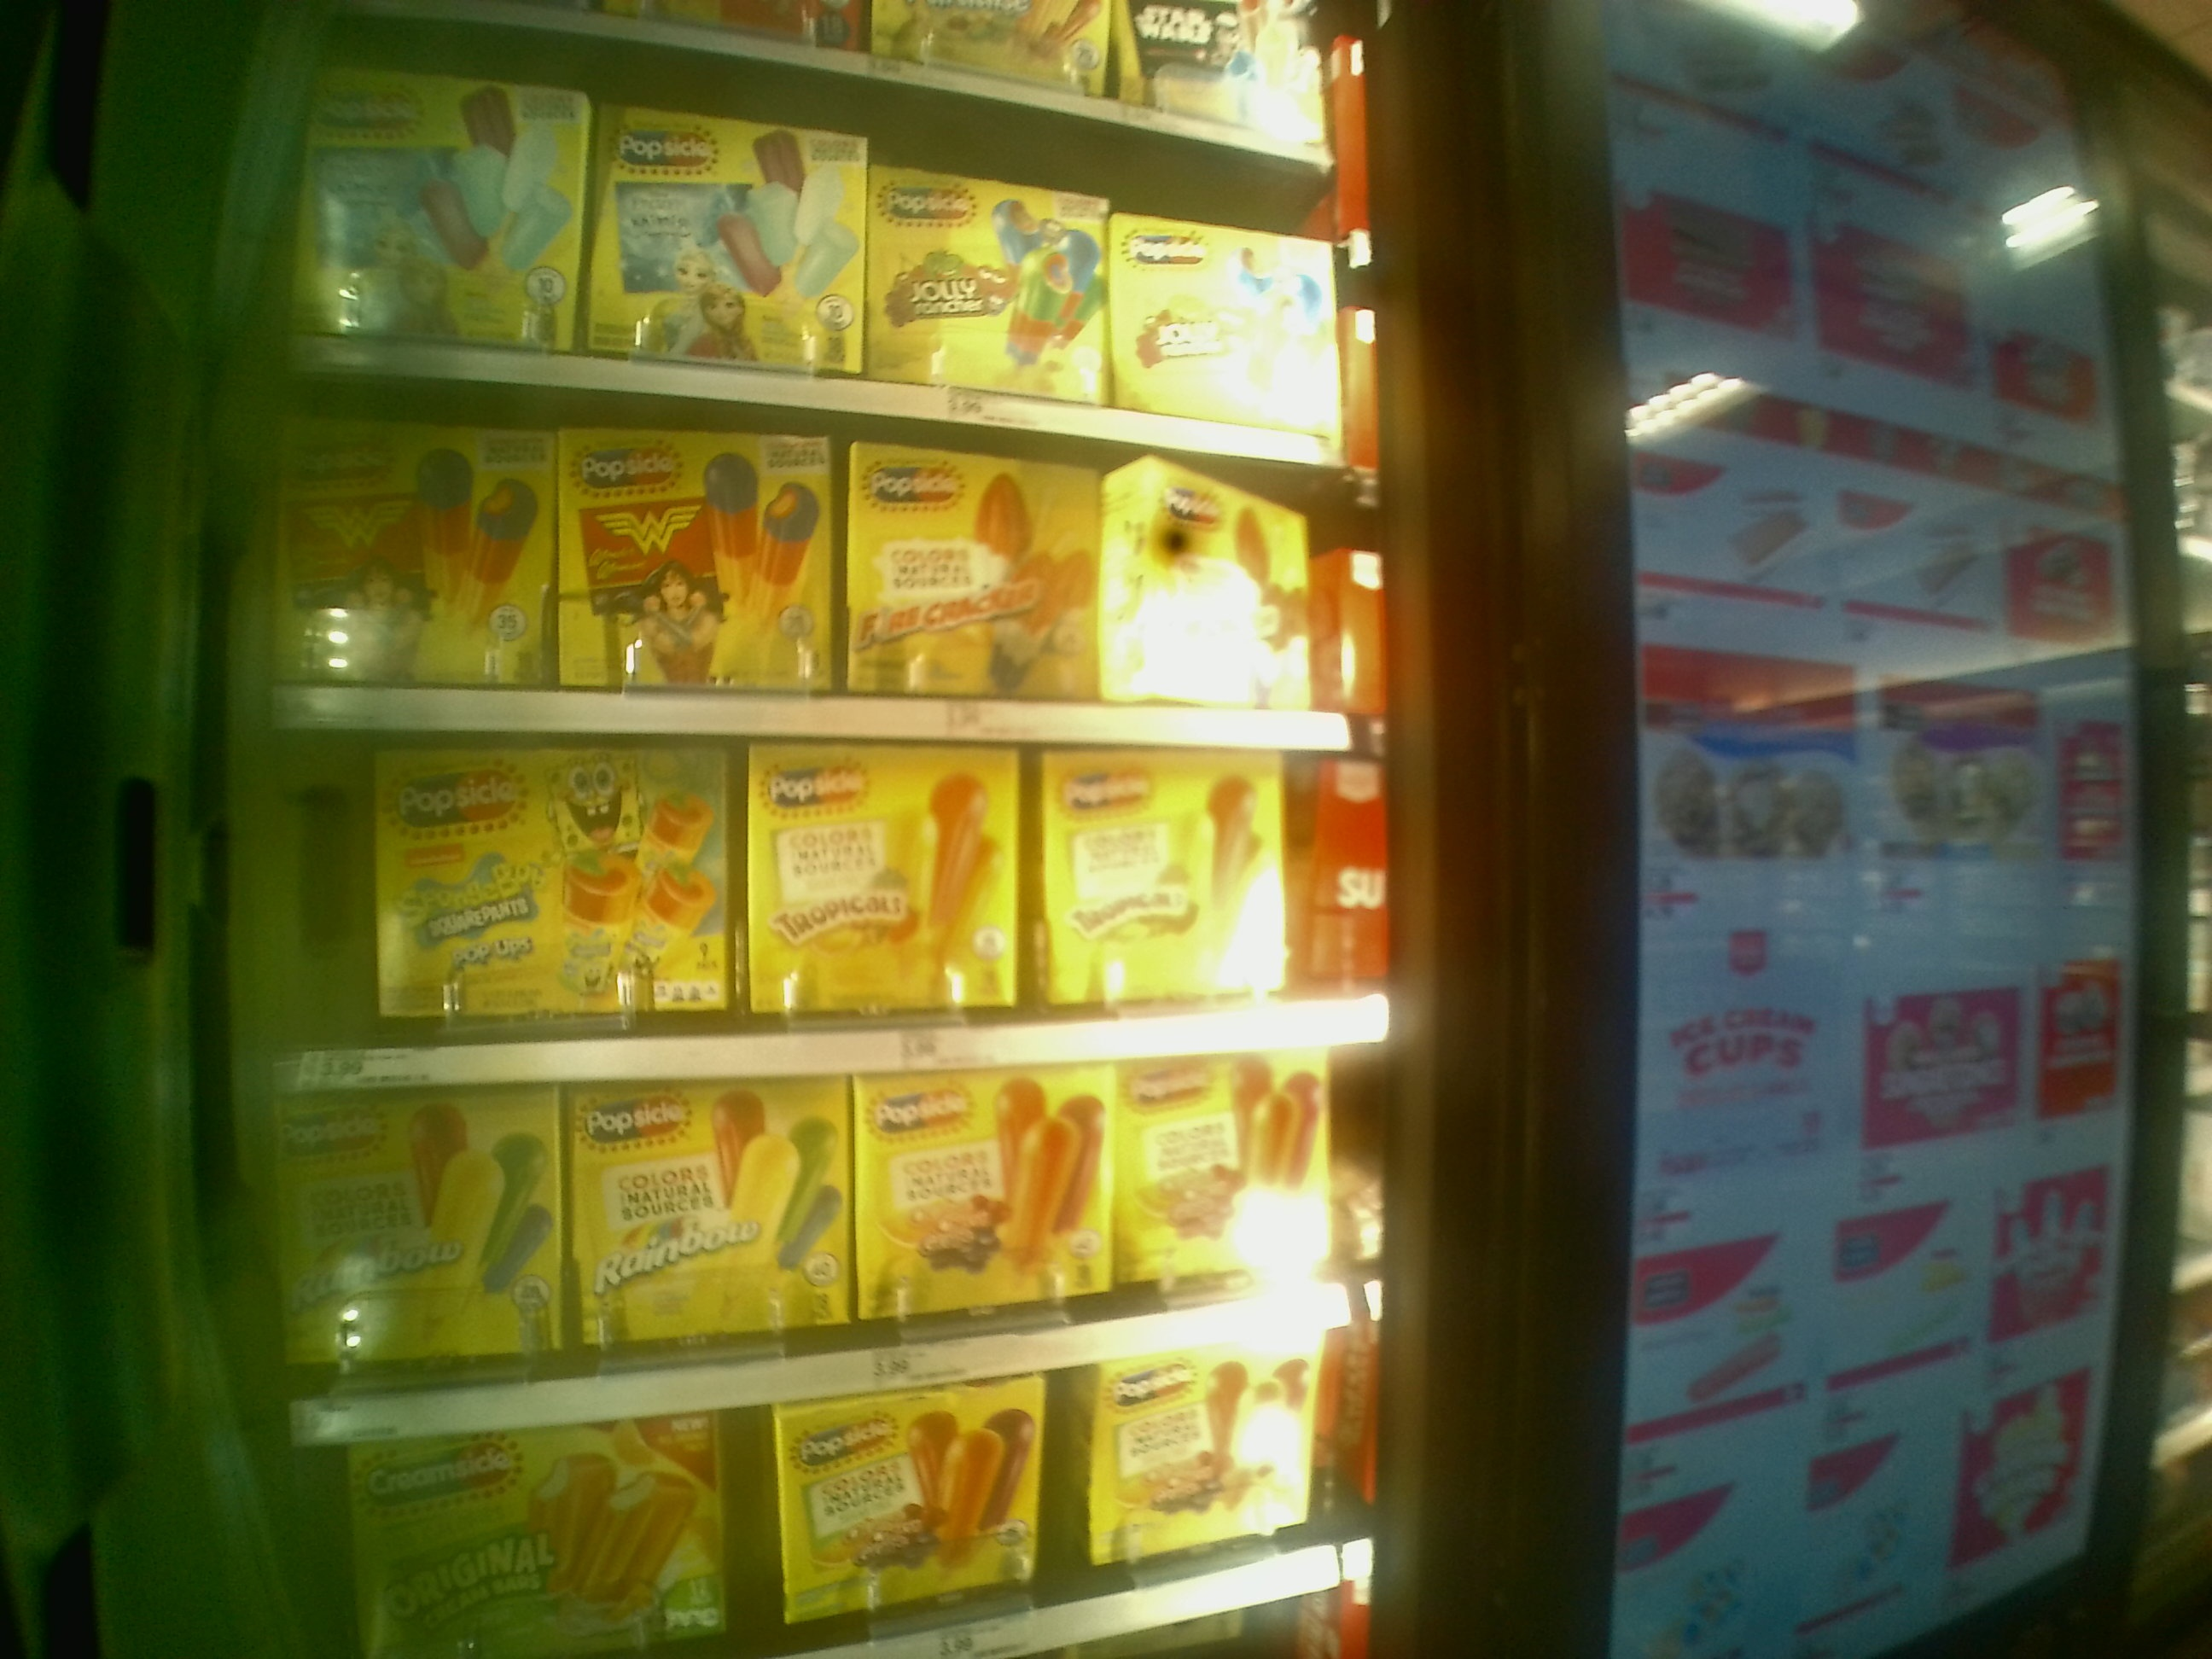frozen-food-shelf: (253, 385, 1359, 748), (258, 742, 1388, 1080)
